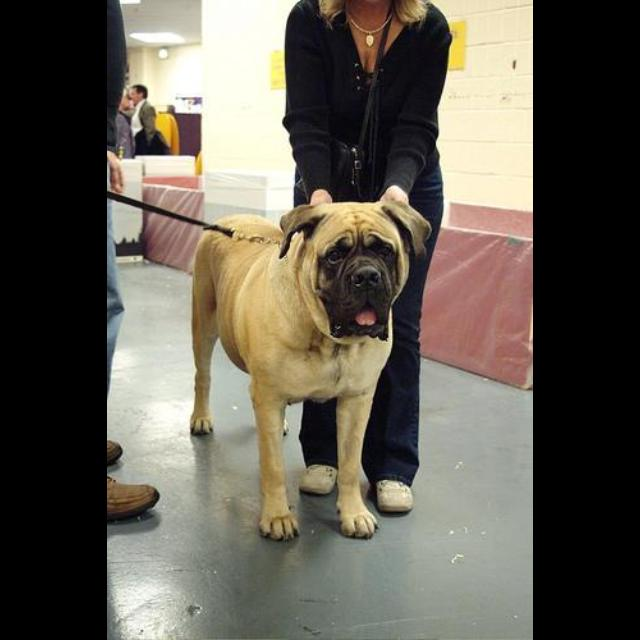bullmastiff: (189, 198, 433, 542)
person: (283, 2, 454, 515)
